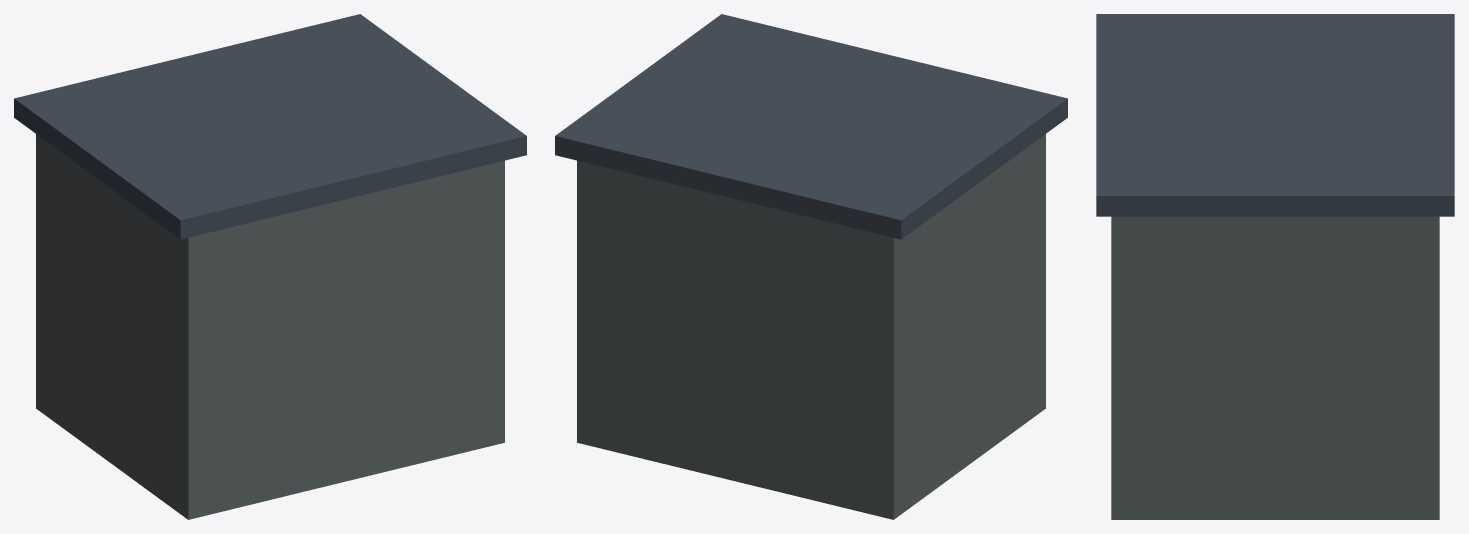
Rendered from brick_pallets.glb.
3 renders of one model, left to right at view 1: azimuth 30°, elevation 25°; view 2: azimuth 150°, elevation 25°; view 3: azimuth 270°, elevation 25°, orthographic. The views are drawn at different scales.
Bounding box in the file's own units: 1.13 × 0.96 × 0.94.
1 material, 1 textured.
